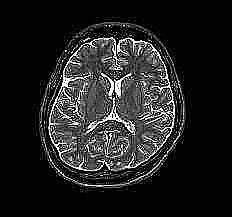Normal_Brain: (3, 3, 232, 217)
